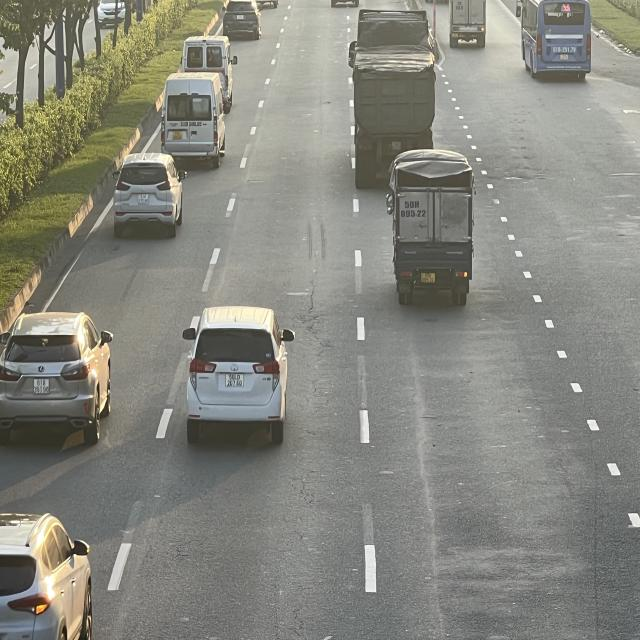car: (180, 306, 293, 444), (3, 311, 116, 445), (112, 155, 187, 238), (225, 0, 262, 40)
coach: (518, 2, 593, 82)
container: (347, 6, 437, 193)
truck: (387, 148, 474, 306), (449, 0, 487, 48)
van: (161, 72, 229, 165), (183, 34, 236, 109)
